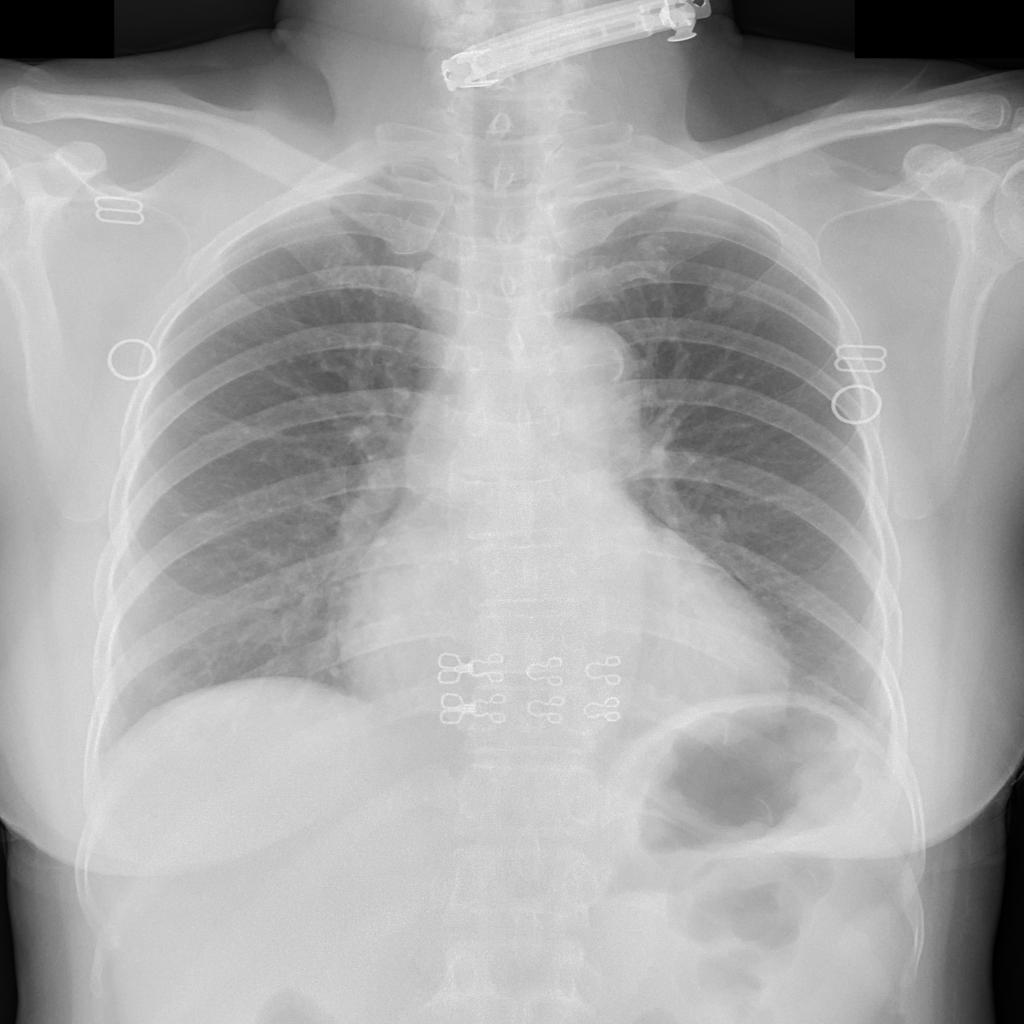Nodule: (706, 282, 737, 311)
